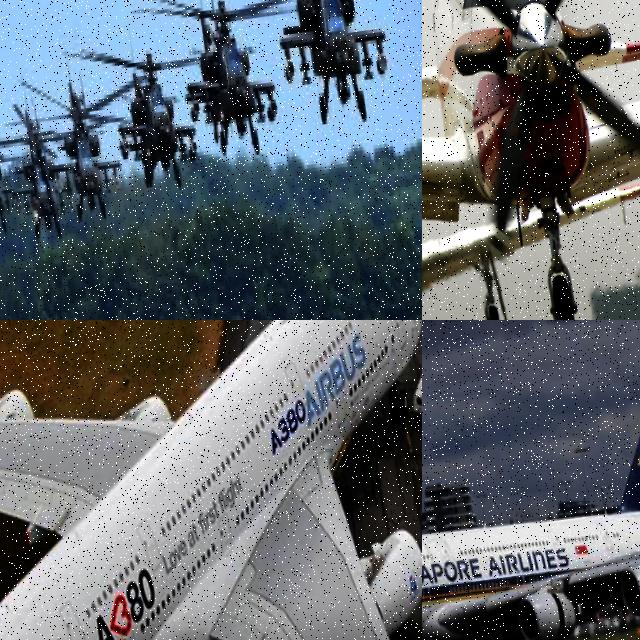A380: (0, 320, 422, 640), (422, 323, 640, 640)
Apache: (178, 0, 422, 140), (138, 0, 318, 171), (6, 51, 143, 232), (82, 28, 209, 204), (0, 101, 32, 232)
KT-1: (422, 0, 640, 320), (422, 0, 640, 171)
